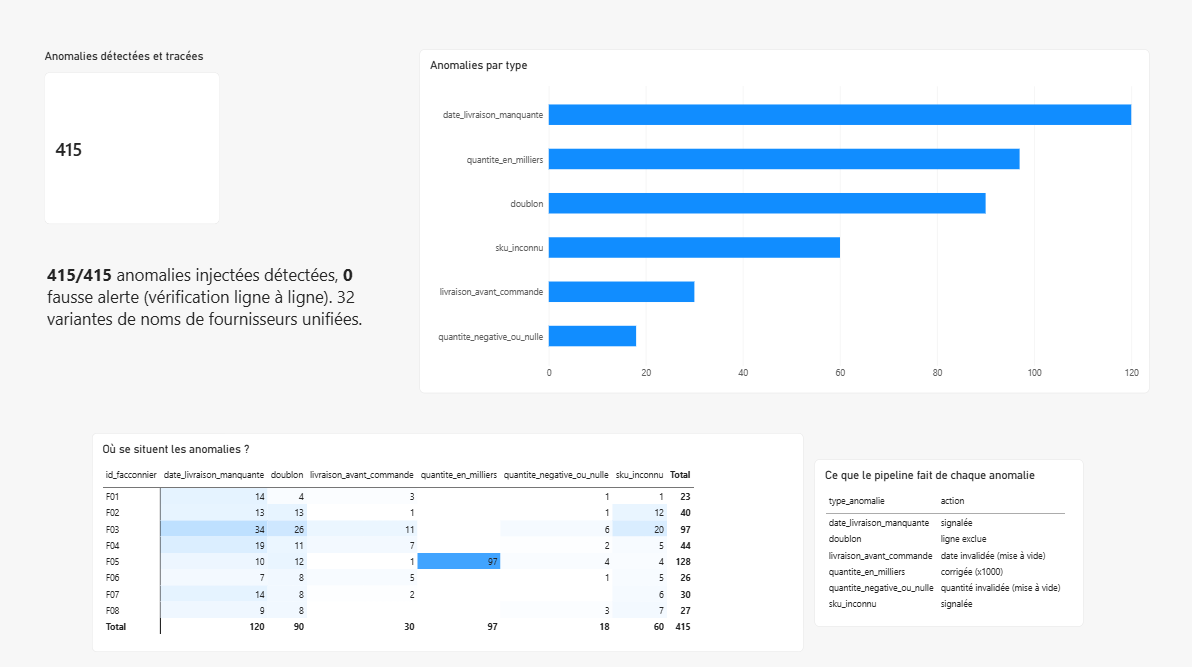

What the dashboard file says about the page in this screenshot:
{"tool":"powerbi","page":{"name":"Qualité des données","canvas":[1920,1080],"ordinal":3},"visuals":[{"type":"cardVisual","title":"Anomalies détectées et tracées","fields":{"Data":["_Mesures.Anomalies traitées"]},"box":[76,82,280,280],"z":0},{"type":"textbox","box":[80,424,552,152],"z":1},{"type":"clusteredBarChart","title":"Anomalies par type","fields":{"Category":["anomalies.type_anomalie"],"Y":["_Mesures.Anomalies traitées"]},"box":[676,82,1168,550],"z":2},{"type":"pivotTable","title":"Où se situent les anomalies ?","fields":{"Columns":["anomalies.type_anomalie"],"Rows":["dim_facconnier.id_facconnier"],"Values":["_Mesures.Anomalies traitées"]},"box":[152,696,1138,350],"z":3},{"type":"tableEx","title":"Ce que le pipeline fait de chaque anomalie","fields":{"Values":["anomalies.type_anomalie","anomalies.action"]},"box":[1308,738,430,268],"z":4}]}

Visuals, with their boxes in screenshot pixels (x1, y1, x2, y2), scaled from the page's 1920x1080 canvas onto the 1192x667 screenshot:
"Anomalies détectées et tracées" cardVisual: select_region(47, 51, 221, 224)
textbox: select_region(50, 262, 392, 356)
"Anomalies par type" clusteredBarChart: select_region(420, 51, 1145, 390)
"Où se situent les anomalies ?" pivotTable: select_region(94, 430, 801, 646)
"Ce que le pipeline fait de chaque anomalie" tableEx: select_region(812, 456, 1079, 621)
